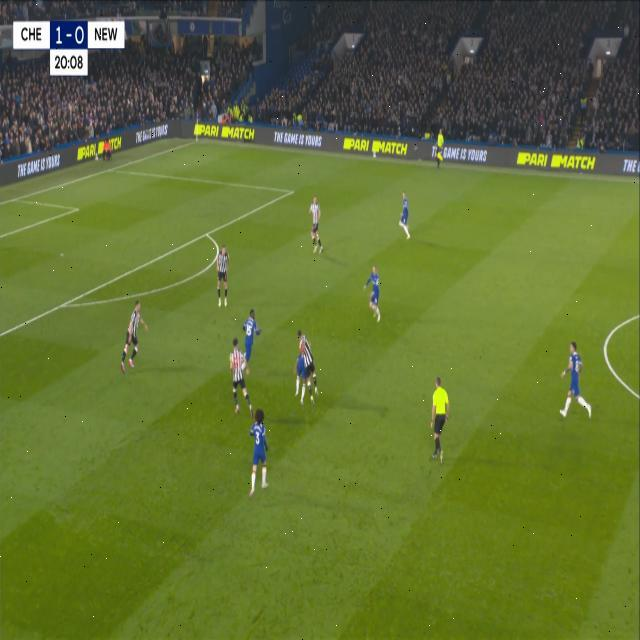Chelsea: (556, 334, 594, 424), (245, 404, 272, 501), (240, 304, 263, 372), (362, 260, 384, 326), (397, 188, 411, 244)
Newcastle: (118, 295, 150, 378), (227, 334, 256, 421), (296, 325, 322, 402), (214, 239, 232, 312), (307, 190, 324, 254)
Refree: (428, 371, 452, 466)
